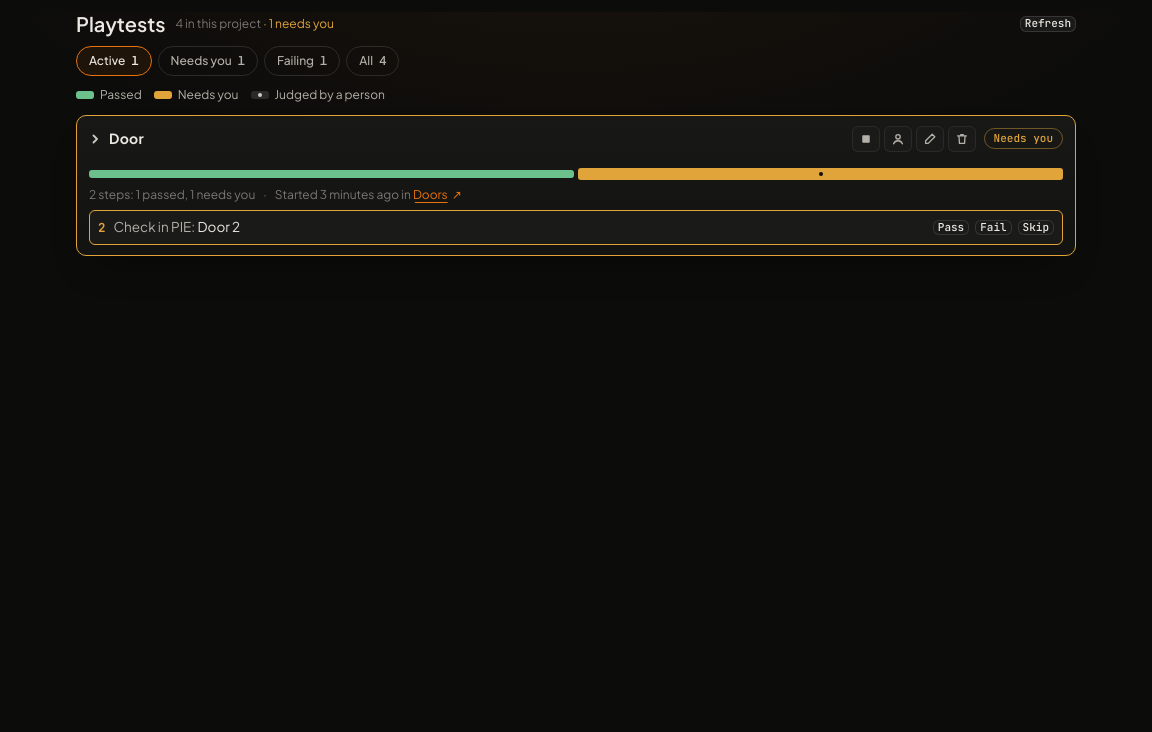
Test: the Playtests page › shows each row's last run as its step path, when it ran and in which session
Click the button "All 4" at (373, 61), box [346,46,399,76]
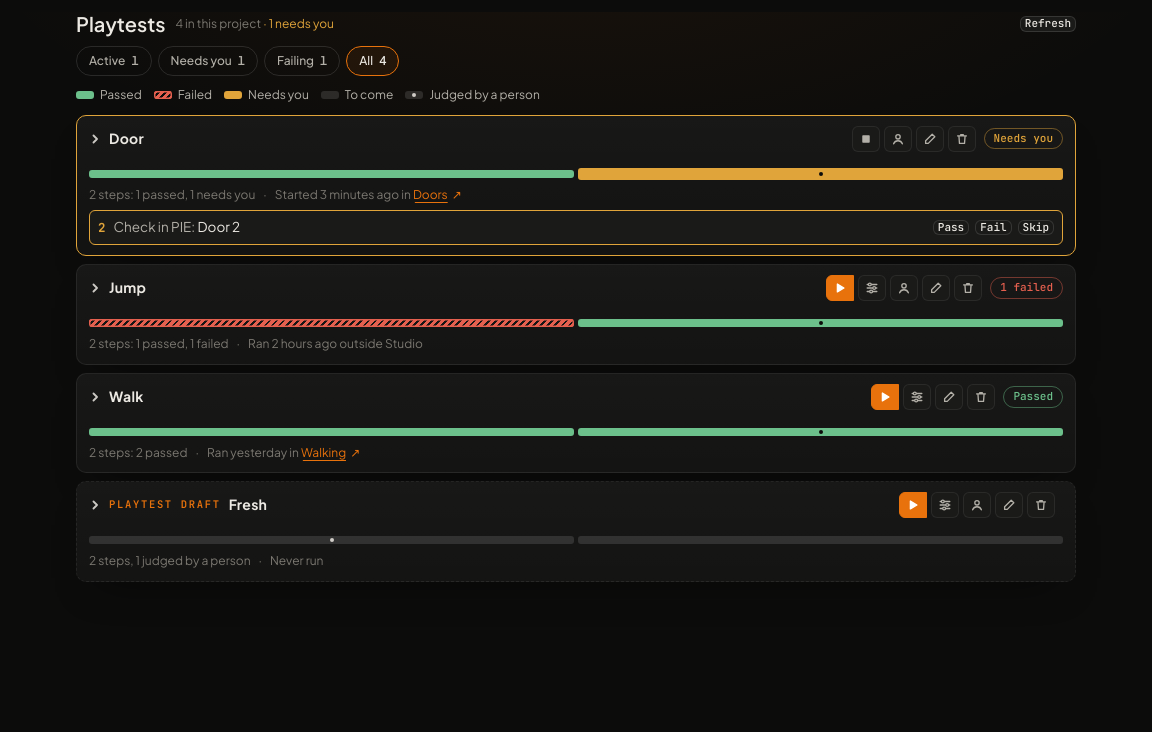
Expected: the text "Ran 2 hours ago outside Studio" is shown, [237,335,423,354]
Expected: the element showing "Ran yesterday in Walking ↗" is shown, [195,444,360,462]
Expected: the text "Never run" is shown, [259,552,324,571]
